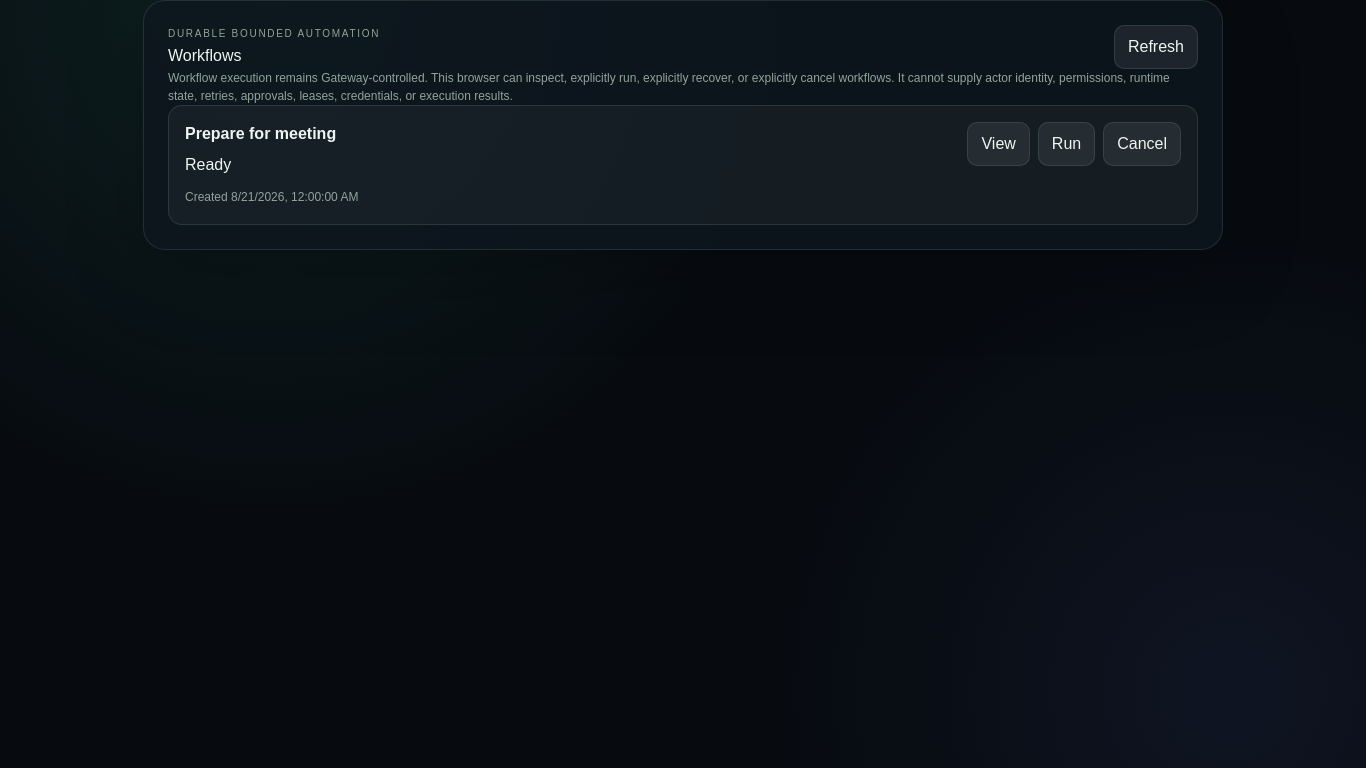
Scenario: WorkflowPanel › does not expose raw workflow results in the browser
This screenshot has width=1366, height=768.
Click the button "View": [999, 144] box [967, 122, 1030, 166]
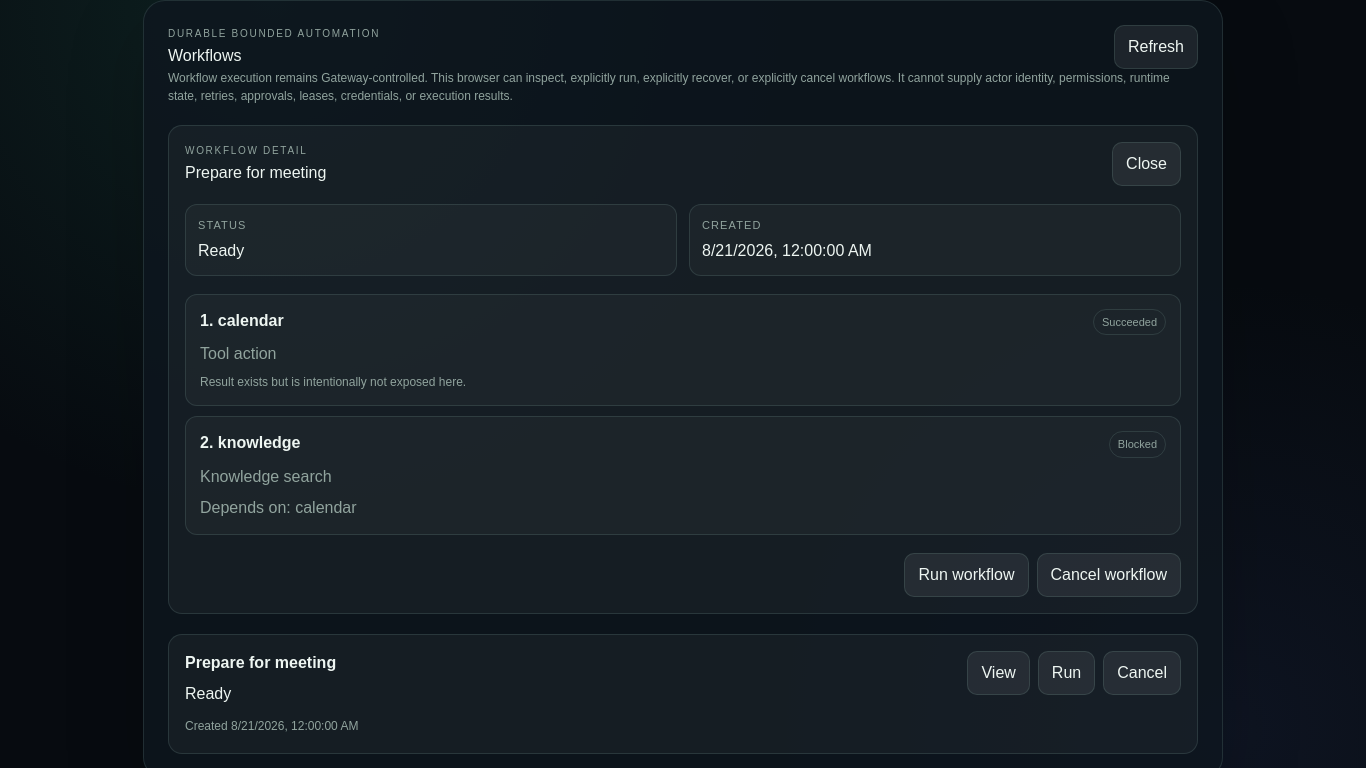
Check: the text "Result exists but is intentionally not exposed here." is shown, box [200, 375, 466, 389]
